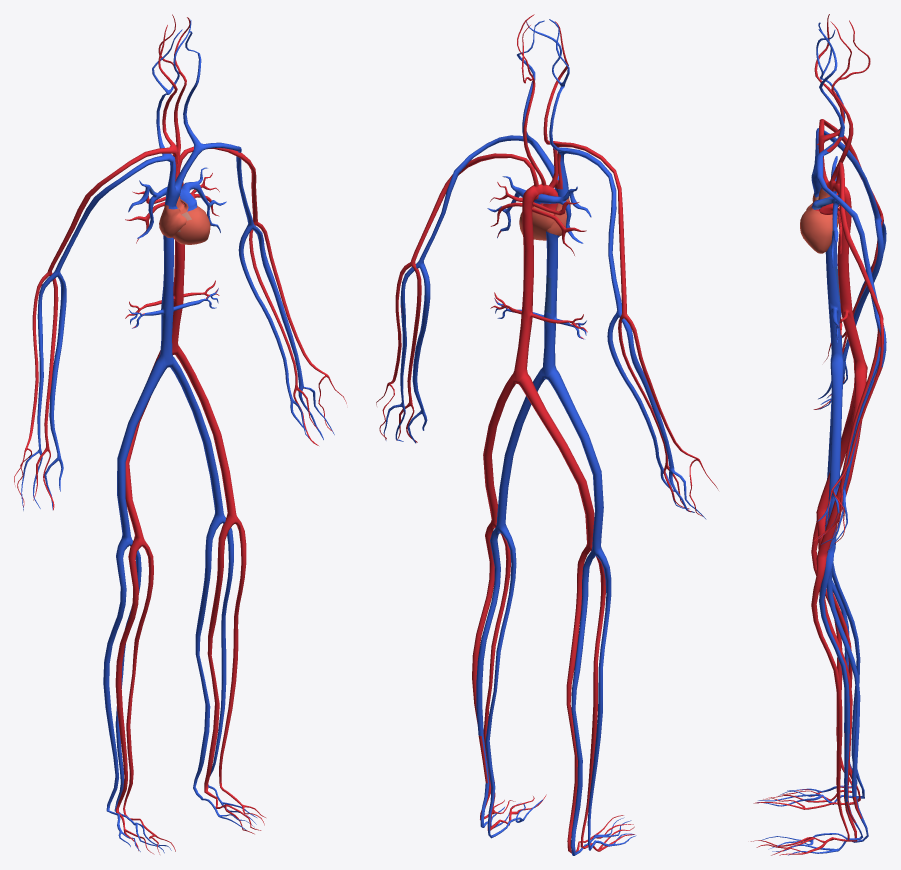
File: Circulatory.fbx
3 renders of one model, left to right at view 1: azimuth 30°, elevation 25°; view 2: azimuth 150°, elevation 25°; view 3: azimuth 270°, elevation 25°, orthographic. The views are drawn at different scales.
Visible parts, largest first — view 1: Blue, CIrculatory.001, HEart; view 2: Blue, CIrculatory.001, HEart; view 3: Blue, CIrculatory.001, HEart.
Boxes of the visible parts, x1,y1,x2,y2 form: Blue: (21, 19, 334, 853); CIrculatory.001: (14, 14, 346, 854); HEart: (159, 195, 210, 244); Blue: (383, 19, 706, 855); CIrculatory.001: (376, 14, 718, 853); HEart: (519, 197, 570, 240); Blue: (757, 22, 886, 855); CIrculatory.001: (750, 14, 883, 855); HEart: (800, 187, 838, 253).
Size of the model in its own units: 972 by 2236 by 345.
